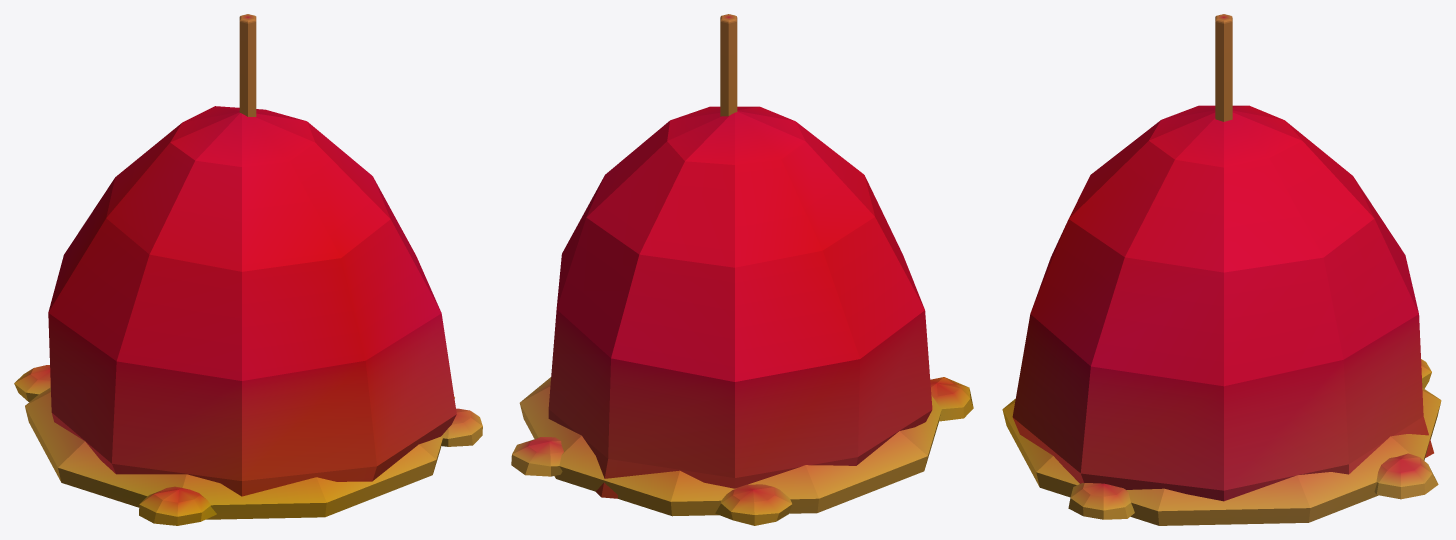
File: Farm_Haystack.glb
3 renders of one model, left to right at view 1: azimuth 30°, elevation 25°; view 2: azimuth 150°, elevation 25°; view 3: azimuth 270°, elevation 25°, orthographic. The views are drawn at different scales.
Visible parts, largest first — view 1: Farm_Haystack; view 2: Farm_Haystack; view 3: Farm_Haystack.
Boxes of the visible parts, x1,y1,x2,y2 form: Farm_Haystack: (14,14,482,525); Farm_Haystack: (511,14,973,525); Farm_Haystack: (1002,14,1441,525).
Bounding box in the file's own units: 2.4 × 2.58 × 2.42.
